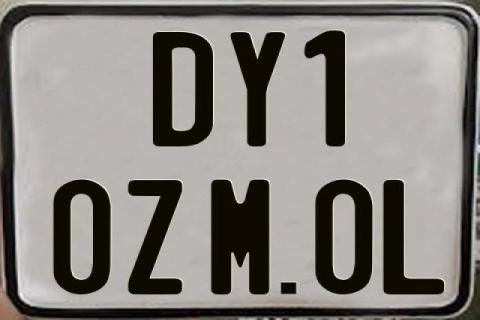0: (313, 180, 374, 300), (51, 178, 113, 294), (301, 30, 345, 146)
D: (150, 31, 214, 148)
L: (382, 179, 446, 296)
M: (209, 178, 271, 298)
Y: (227, 30, 282, 148)
Z: (128, 179, 186, 297)
